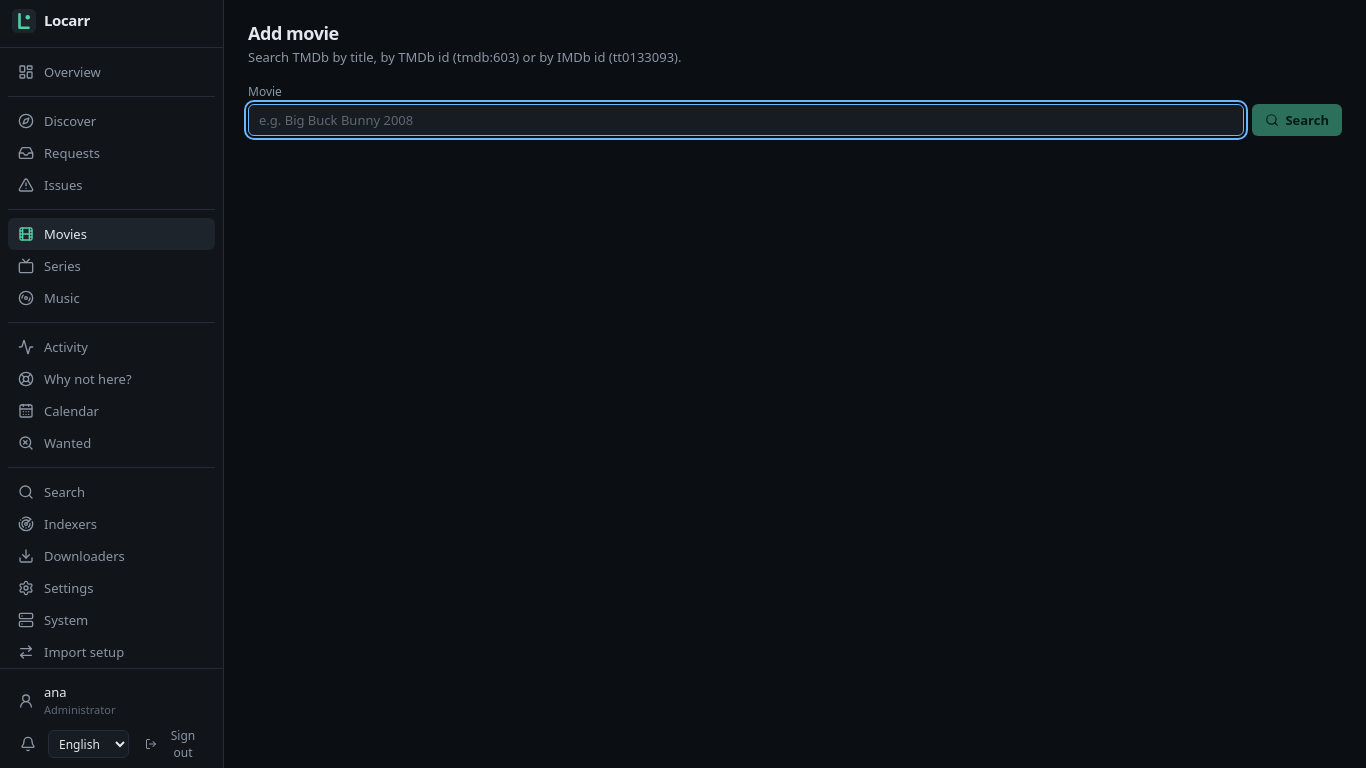
it: already in Streamero › marks lookup results in Add movie and ignores unsafe links
Type "bunny" into the field with test id "add-movie-term" at {"x": 746, "y": 120}, box x1=248 y1=104 x2=1244 y2=136
Then press Enter
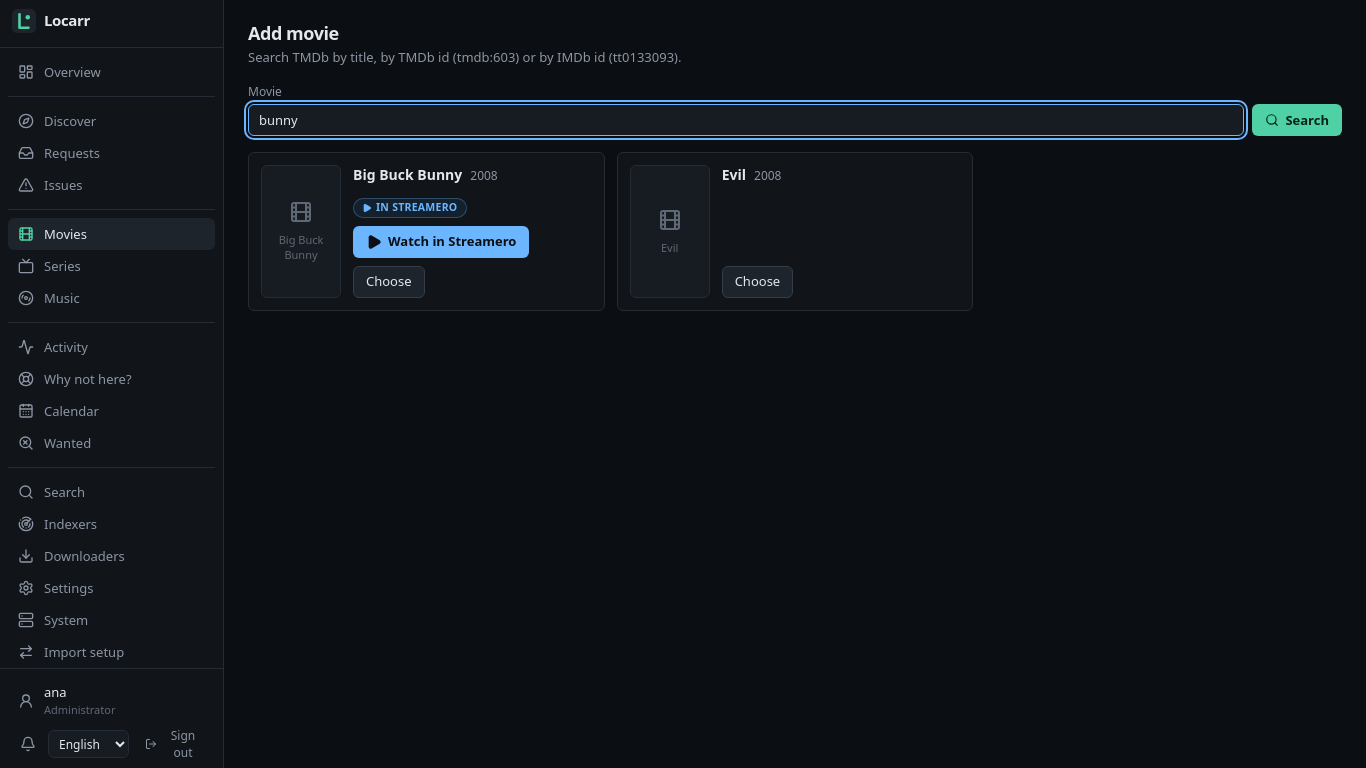
Check: the element with test id "lookup-streamero-1" is shown, box x1=353 y1=198 x2=466 y2=218
